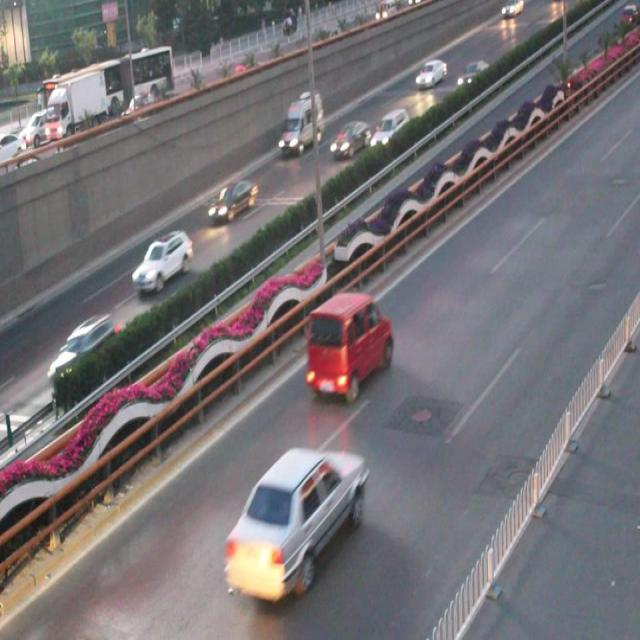car: (222, 447, 368, 598), (306, 292, 392, 400), (45, 312, 124, 382), (132, 229, 194, 289), (206, 177, 258, 222), (367, 110, 406, 154), (328, 120, 369, 157), (412, 56, 448, 90)
truck: (275, 90, 322, 154)
